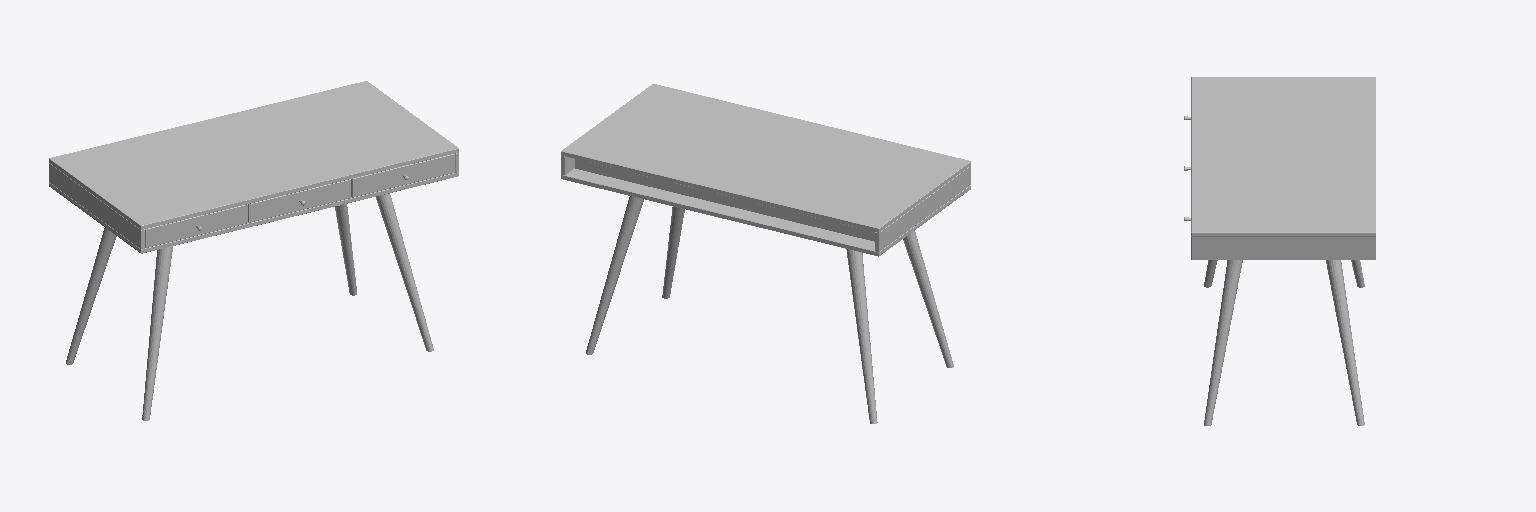
File: Table Jeremiah Collection Mid Century Desk N150921.obj
The picture shows the model from 3 angles: view 1: azimuth 30°, elevation 25°; view 2: azimuth 150°, elevation 25°; view 3: azimuth 270°, elevation 25°; orthographic projection.
Visible parts, largest first — view 1: Object01, Object04, Object03, Object02; view 2: Object01, Object04, Object02; view 3: Object01, Object04, Object02.
Part boxes in pixels (left/top/right/bottom): Object01: left=49, top=81, right=458, bottom=253; Object04: left=66, top=193, right=433, bottom=420; Object03: left=145, top=154, right=454, bottom=247; Object02: left=49, top=153, right=458, bottom=248; Object01: left=561, top=84, right=970, bottom=256; Object04: left=586, top=196, right=953, bottom=423; Object02: left=561, top=156, right=970, bottom=251; Object01: left=1191, top=77, right=1375, bottom=259; Object04: left=1204, top=260, right=1364, bottom=425; Object02: left=1191, top=237, right=1375, bottom=255.
Bounding box in the file's own units: 1210 × 736 × 634.